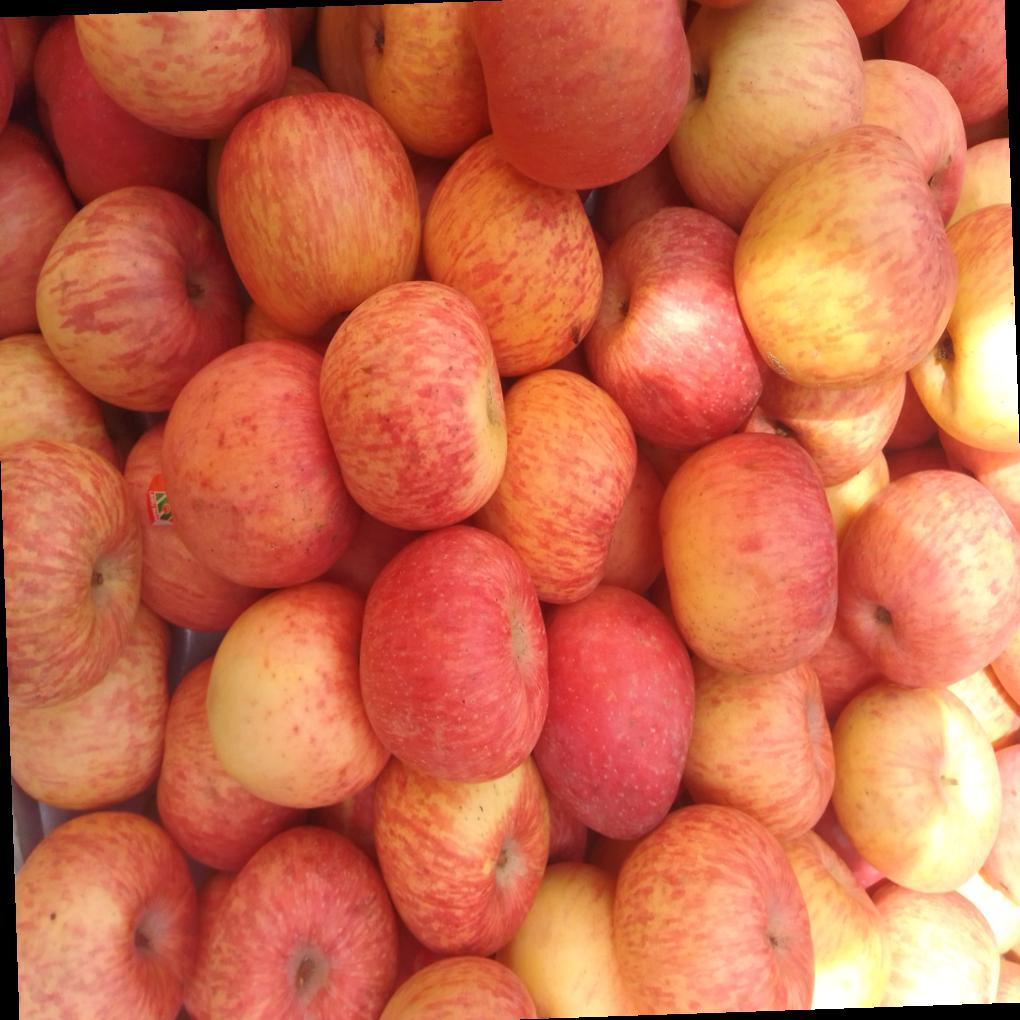FreshGuava: (6, 13, 1009, 1020)
